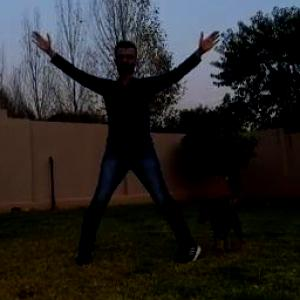takeoff: (87, 26, 260, 266)
